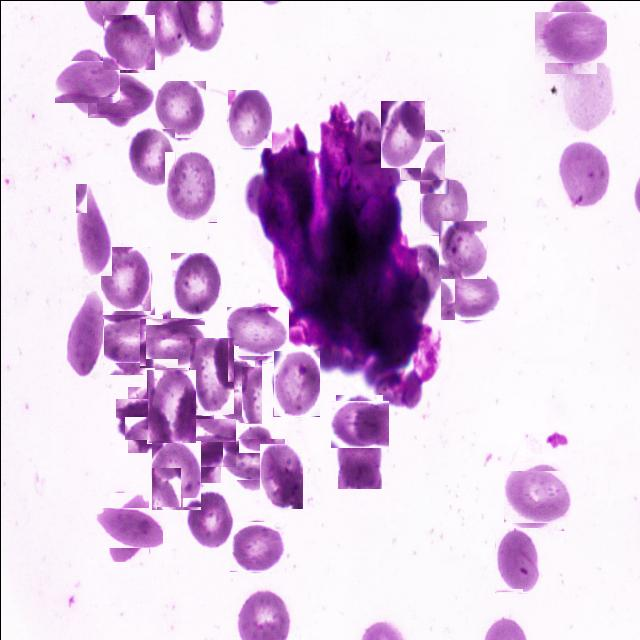red blood cell: (163, 410, 228, 474), (554, 136, 610, 210), (539, 6, 601, 68), (164, 151, 216, 222), (146, 369, 195, 443), (100, 308, 160, 368), (508, 466, 568, 526), (188, 336, 233, 414), (150, 440, 200, 510), (74, 183, 111, 276), (64, 288, 102, 376), (170, 250, 220, 316), (144, 314, 200, 372), (184, 486, 234, 550), (100, 246, 150, 310), (212, 359, 261, 423), (441, 266, 497, 322), (229, 303, 285, 359), (92, 66, 148, 122), (272, 350, 319, 416), (337, 418, 381, 488), (100, 499, 156, 554), (152, 80, 205, 138), (60, 54, 114, 109), (380, 100, 424, 167), (121, 392, 175, 446), (494, 527, 538, 592), (260, 443, 304, 508), (102, 14, 154, 69), (332, 397, 385, 450), (126, 128, 174, 186), (438, 220, 486, 278), (230, 520, 282, 572), (226, 432, 278, 484), (226, 89, 271, 148), (419, 179, 466, 235), (399, 129, 444, 180)
